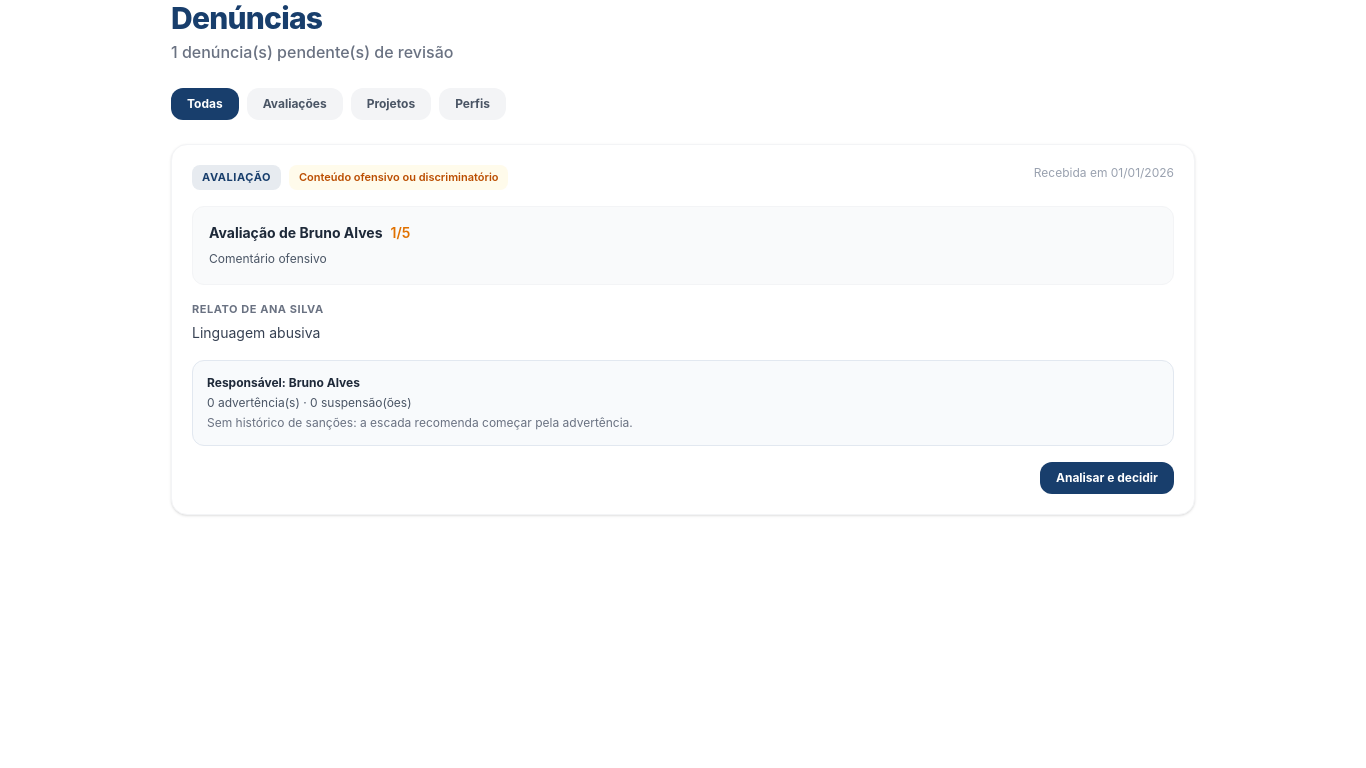
Test: AdminDenuncias › não deixa advertir sem justificativa, que é o texto lido pelo sancionado
The width and height of the screenshot is (1366, 768).
Expected: the text "Avaliação de Bruno Alves" is shown, [209,224,382,240]
What coordinates should you click on to do the following:
click the button "Analisar e decidir"
I would click on:
 (1107, 478)
Its box is [1040,462,1174,494].
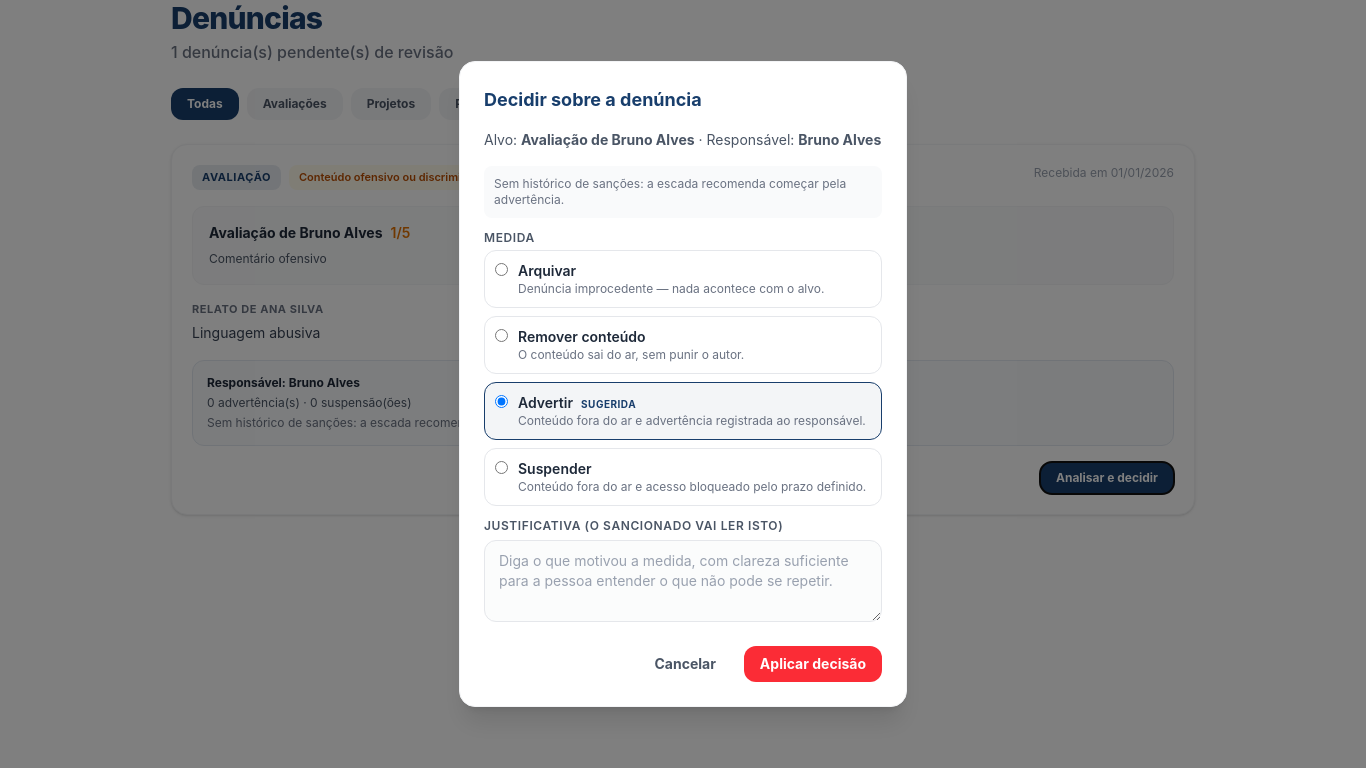
Expected: the dialog is shown
What coordinates should you click on to do the following:
click the radio button labelled "Advertir"
I would click on:
 (502, 402)
Its box is [495,395,508,408].
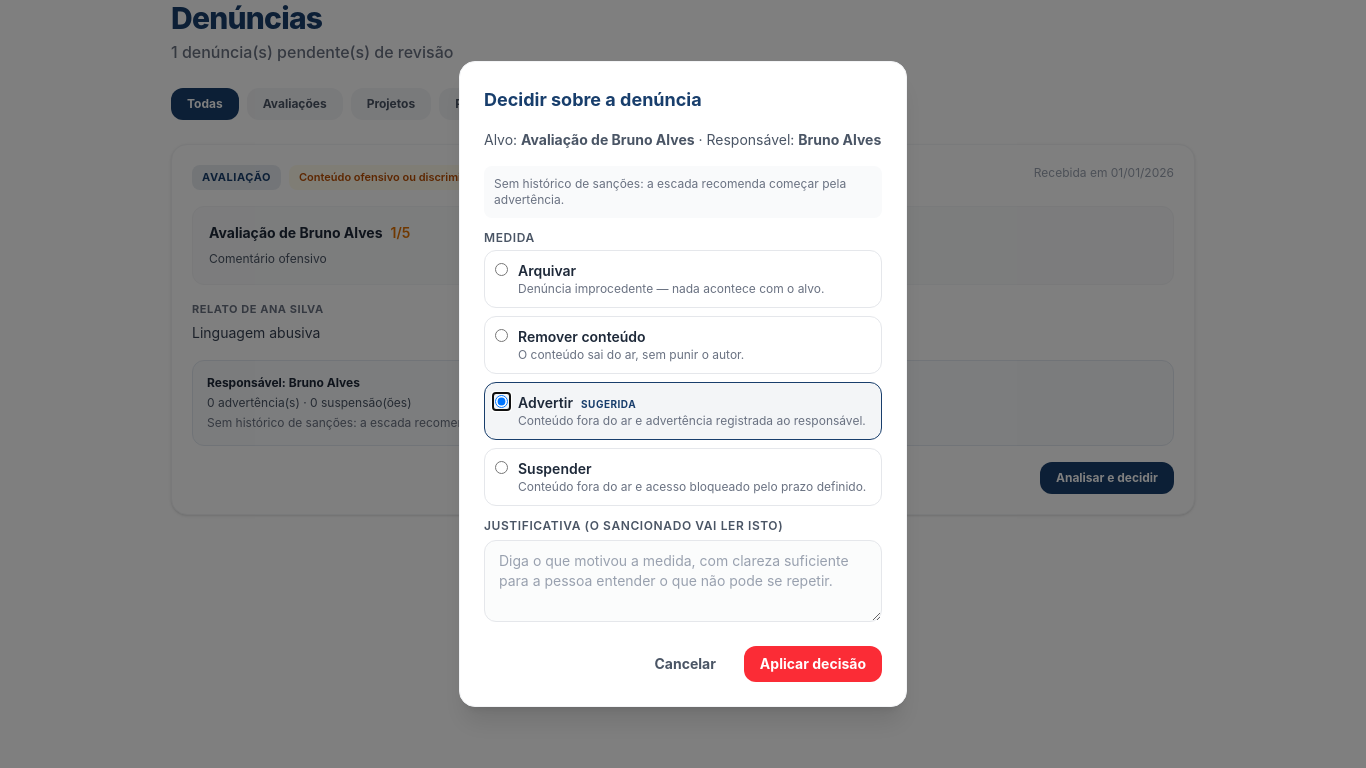
What coordinates should you click on to do the following:
click the button "Aplicar decisão"
I would click on:
 (813, 664)
Its box is [744,646,882,682].
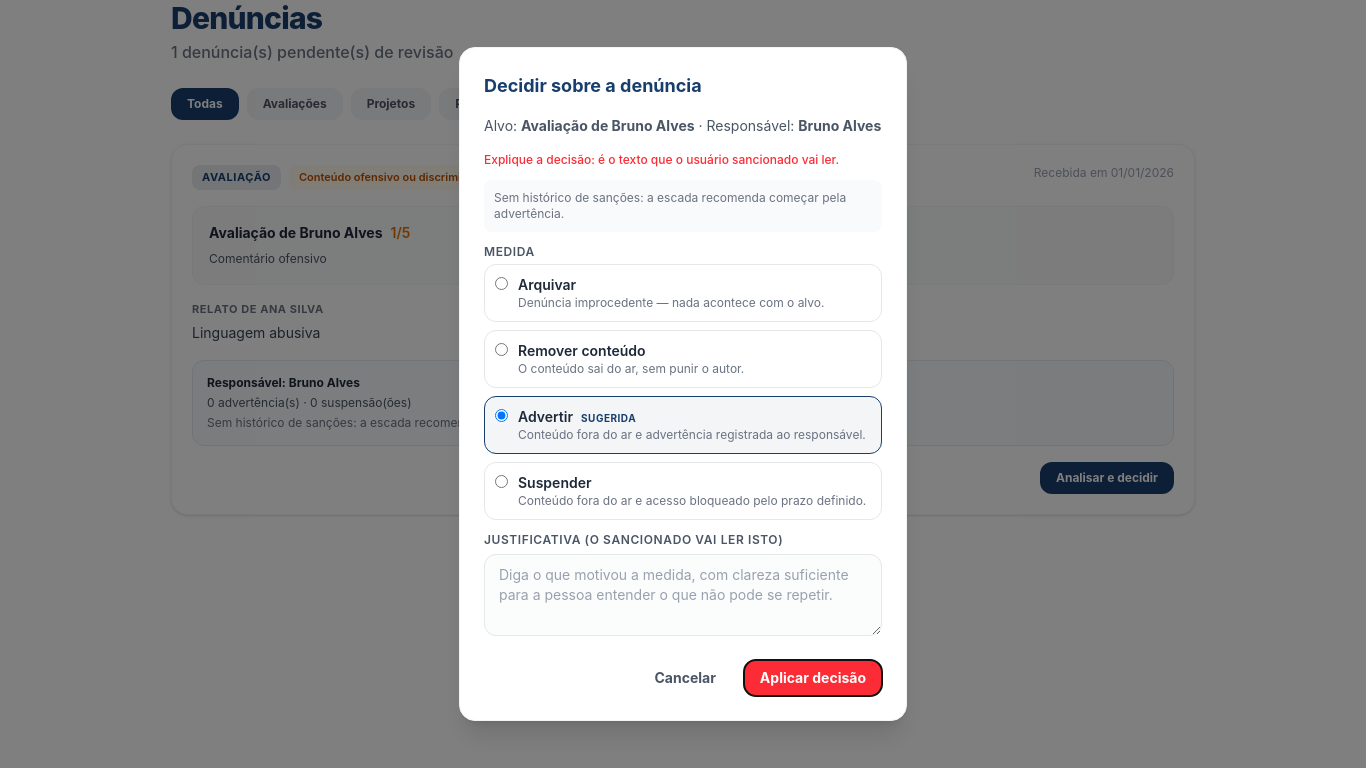
Expected: the message shows "Explique a decisão", [484,152,839,167]
